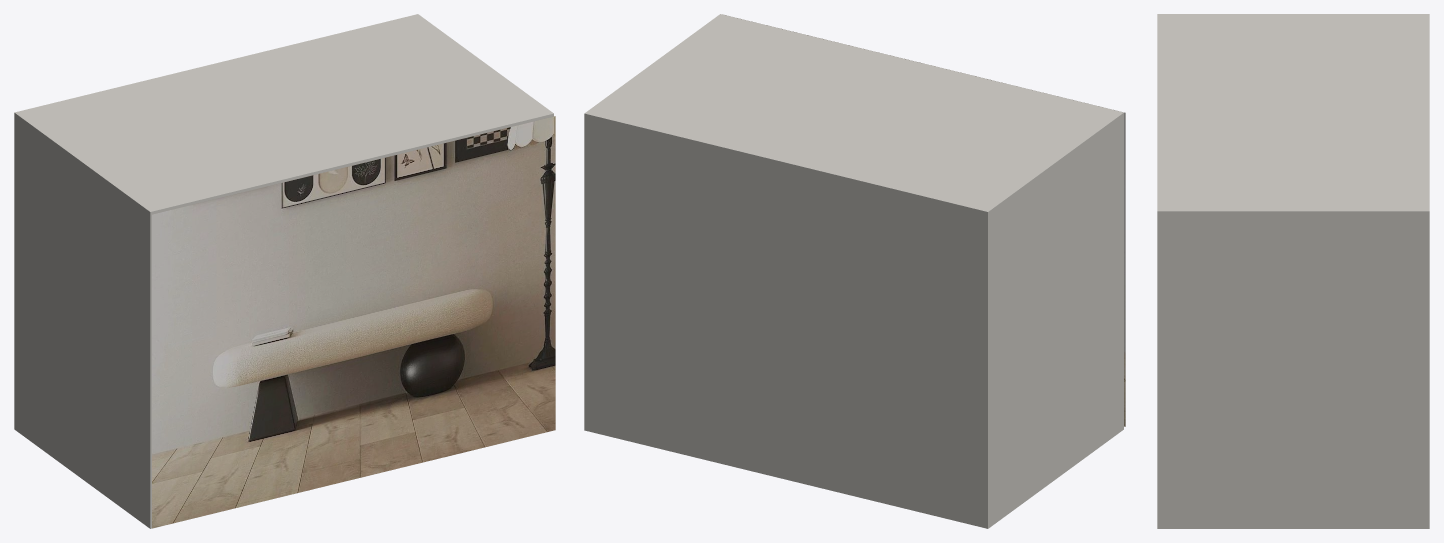
Rendered from mocan-45.glb.
3 views of the same model, side by side, from view 1: azimuth 30°, elevation 25°; view 2: azimuth 150°, elevation 25°; view 3: azimuth 270°, elevation 25° (orthographic).
Parts seen in each view (by area): view 1: furniture; view 2: furniture; view 3: furniture.
Part boxes in pixels (x1,y1,x2,y2): furniture: (14, 14, 555, 528); furniture: (584, 14, 1125, 528); furniture: (1157, 14, 1429, 528).
Bounding box in the file's own units: 0.6 × 0.45 × 0.354.
Materials: 2 (1 with a texture image).
